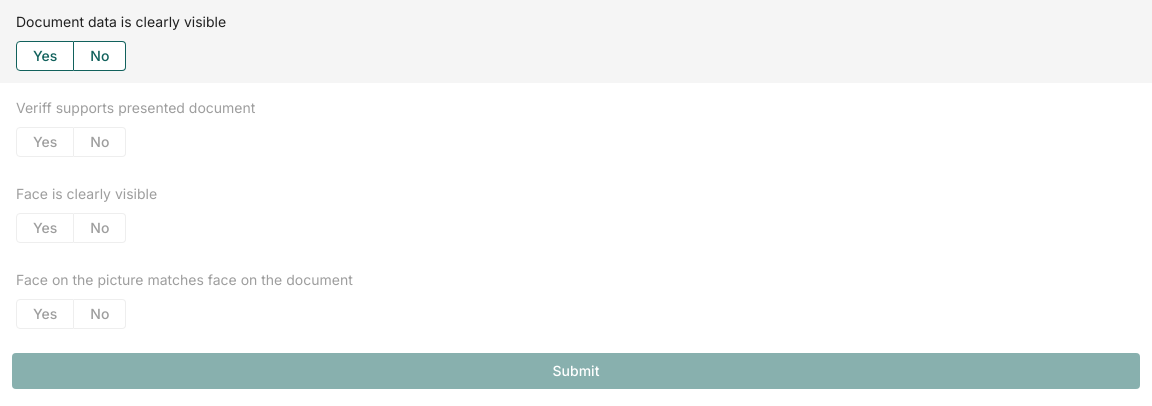
Verification view › should have submit button enabled when "yes" and "no" is selected
Click the button "Yes" below "Document data is clearly visible": (45, 56) x1=16 y1=41 x2=74 y2=71
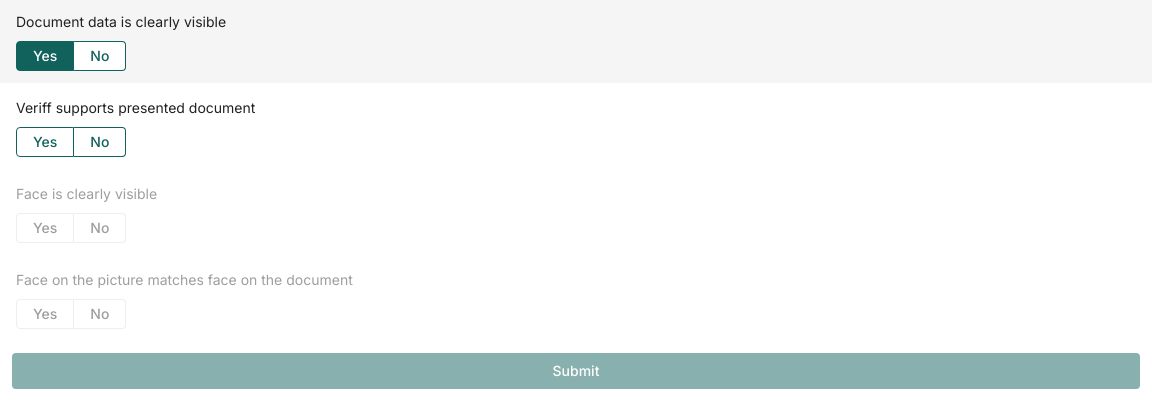
Click the button "No" below "Veriff supports presented document": (100, 142) x1=74 y1=127 x2=126 y2=157
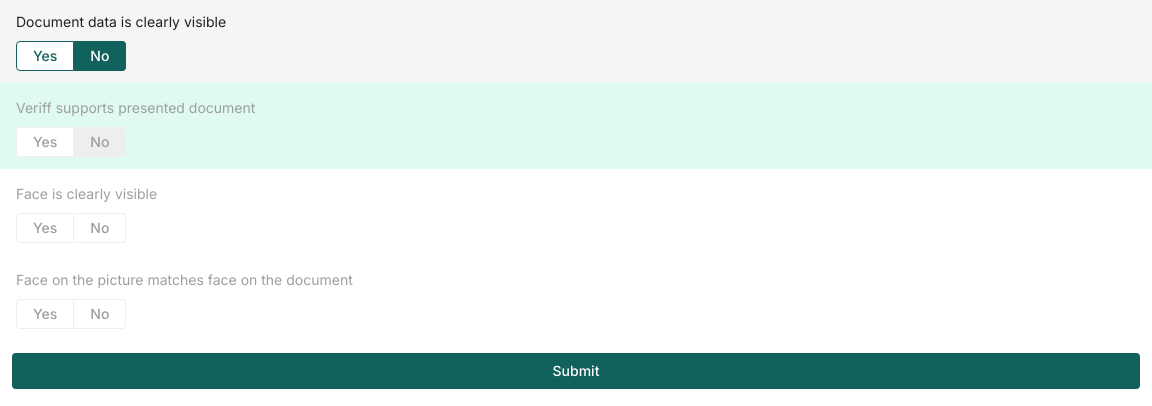
Now the button "Submit" is enabled, box x1=12 y1=353 x2=1140 y2=389
